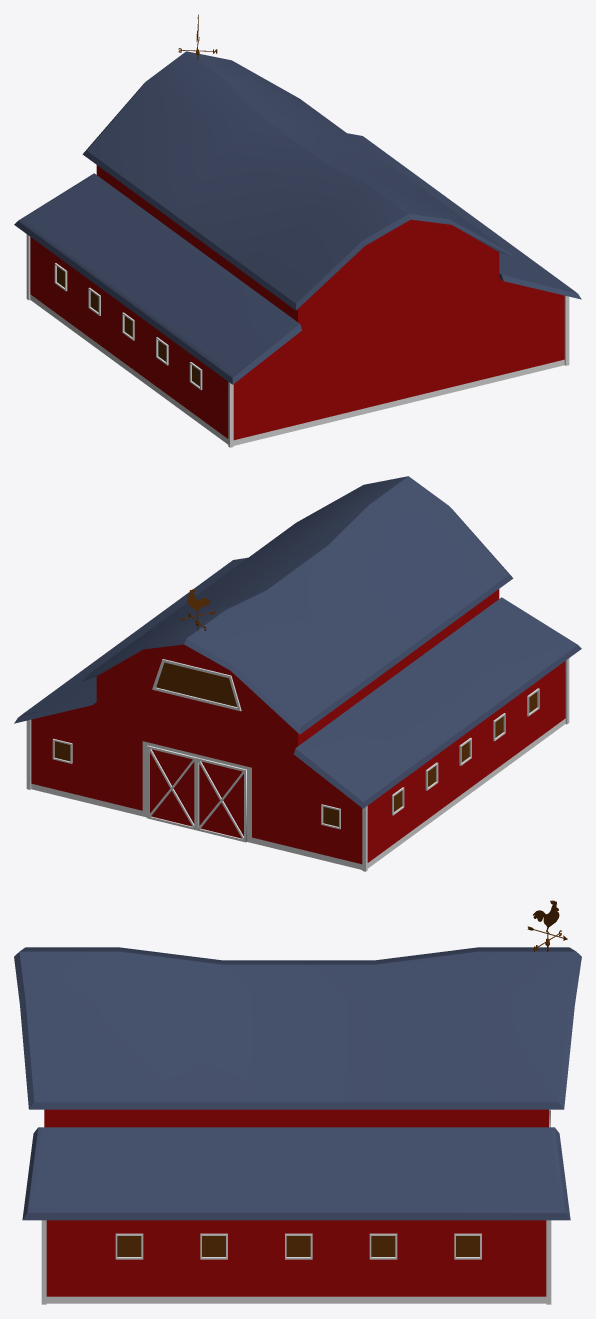
Rendered from Barn.fbx.
The picture shows the model from 3 angles, top to bottom: view 1: azimuth 30°, elevation 25°; view 2: azimuth 150°, elevation 25°; view 3: azimuth 270°, elevation 25°; orthographic projection. The views are drawn at different scales.
Parts seen in each view (by area): view 1: Barn3; view 2: Barn3; view 3: Barn3.
Boxes of the visible parts, box(x1,y1,x2,y2) form: Barn3: box(14, 14, 581, 447); Barn3: box(14, 476, 581, 871); Barn3: box(14, 900, 581, 1304).
Bounding box in the file's own units: 1371 × 905 × 1541.
